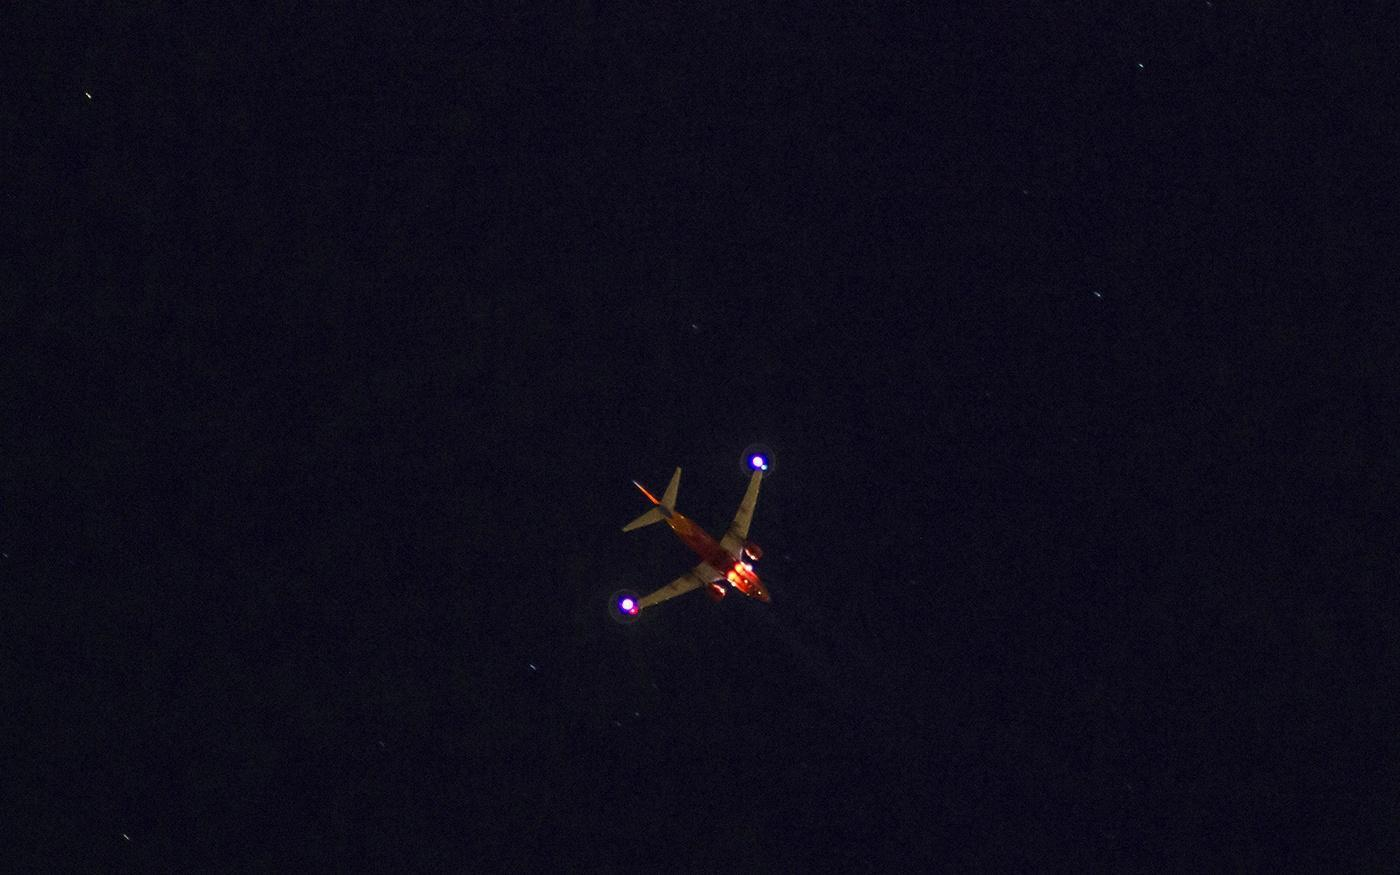Plane: (556, 409, 854, 647)
